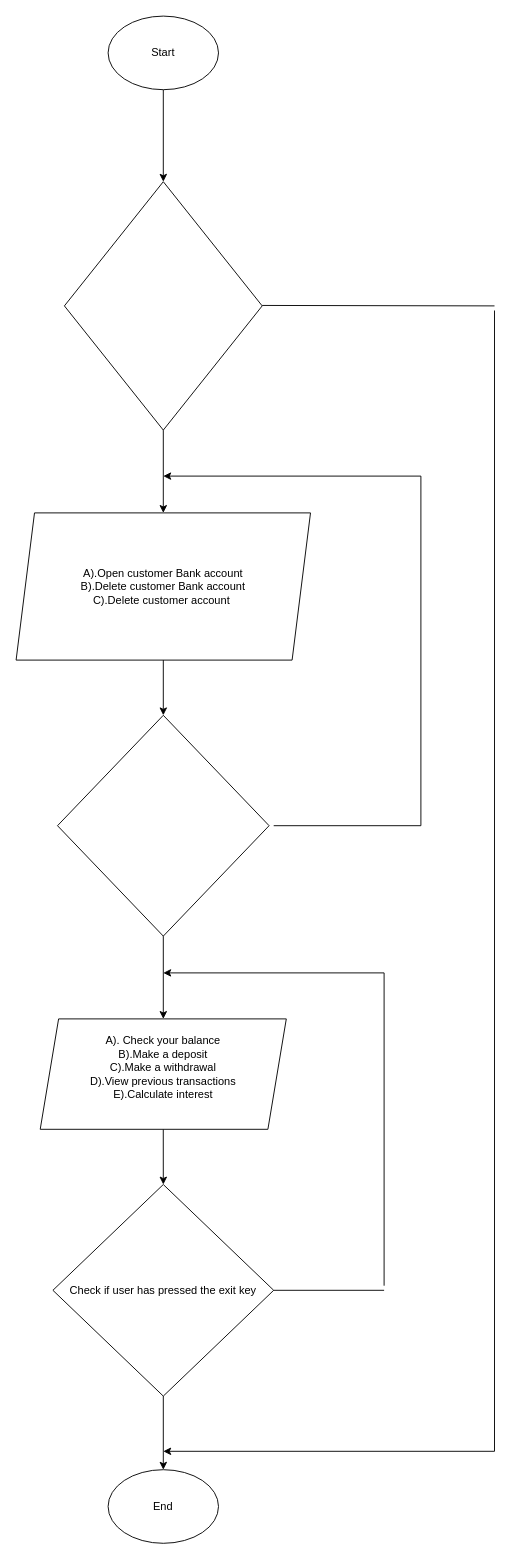
The diagram is 518 pixels wide and 1559 high, and some of its shapes have lost their labels. The shapes that lost their labels are listed below. From the top down, each one's centre as x and y in pixels, then its label:
the point at 162,305: Check if the login credentials of the admin is correct
the point at 163,825: Check if the user has clicked the exit button
